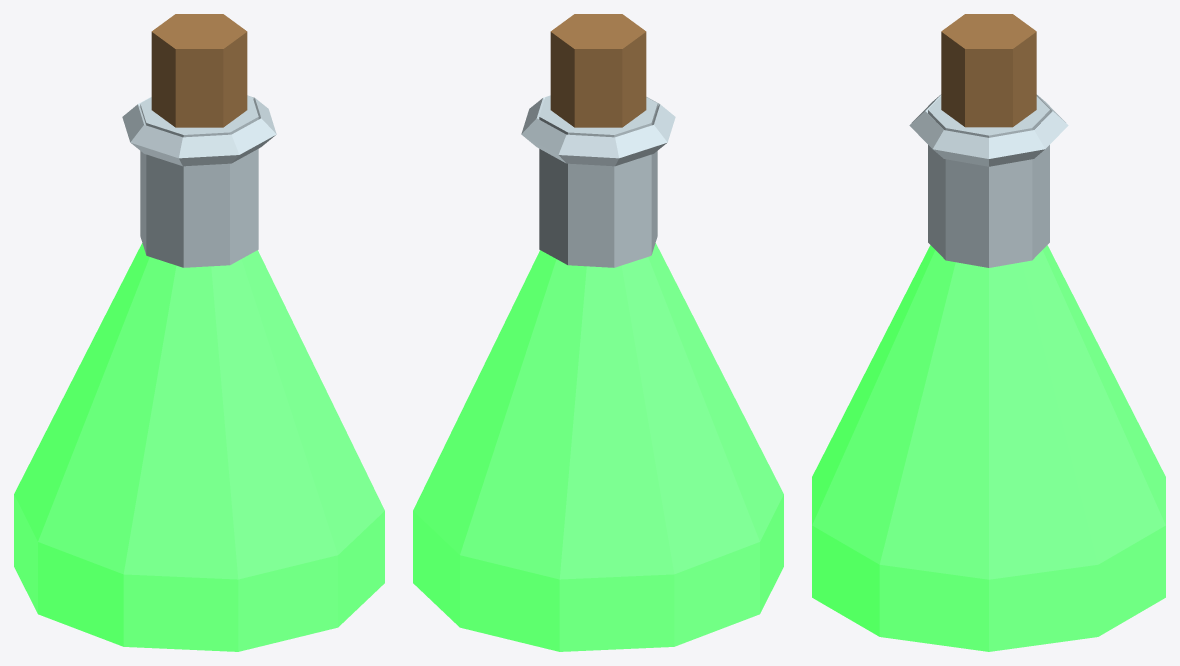
Rendered from potion_green.fbx.
3 renders of one model, left to right at view 1: azimuth 30°, elevation 25°; view 2: azimuth 150°, elevation 25°; view 3: azimuth 270°, elevation 25°, orthographic.
Parts seen in each view (by area): view 1: potion_green; view 2: potion_green; view 3: potion_green.
Boxes of the visible parts, bbox=[...] form: potion_green: bbox=[14, 14, 384, 651]; potion_green: bbox=[413, 14, 783, 651]; potion_green: bbox=[812, 14, 1165, 651].
Size of the model in its own units: 0.14 by 0.225 by 0.1331.
